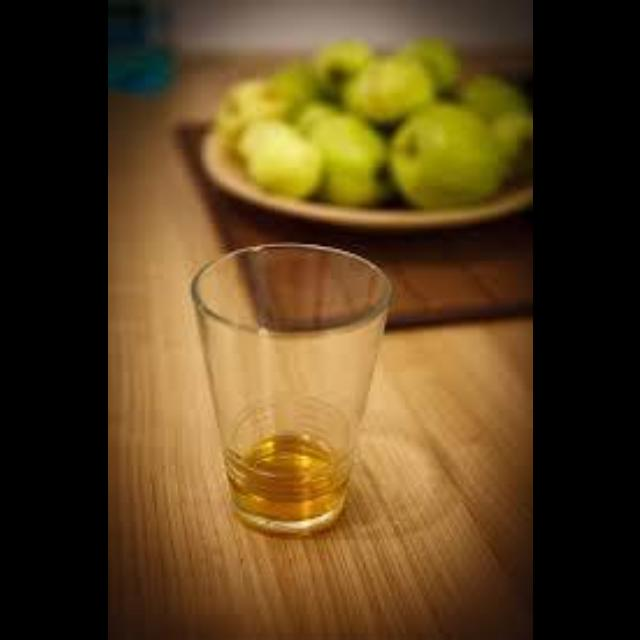apple: (389, 102, 500, 207)
